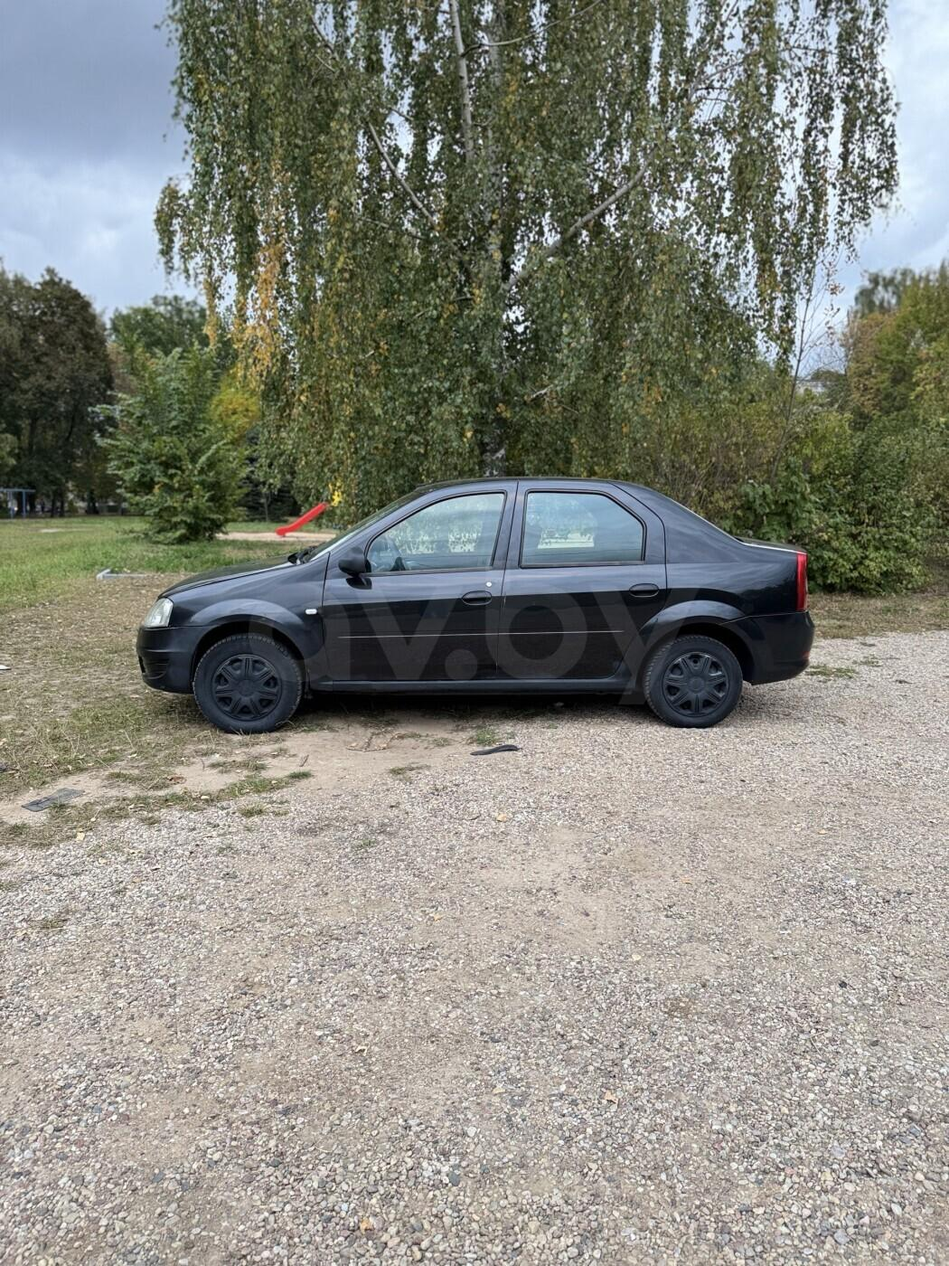Logan_2008-2015: (130, 479, 822, 729)
